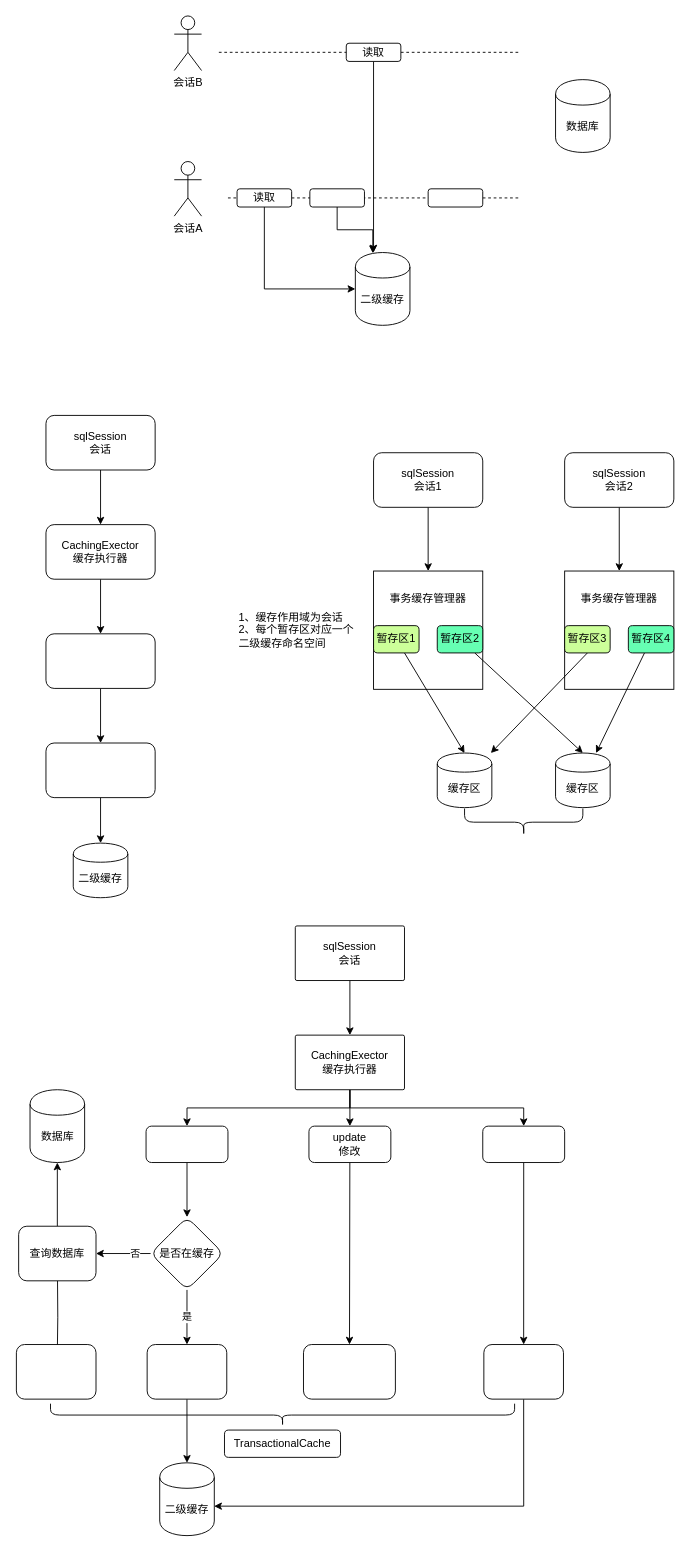
The diagram is 690 pixels wide and 1552 high, and some of its shapes have lost their labels. Here are the shapes that lost their labels. From the top down, the centre of each, then its label:
At [336,197]: "修改".
At [455,197]: "回滚".
At [100,660]: "Transactional CacheManager 缓存管理器".
At [100,770]: "Transactional Cache 暂存区".
At [523,822]: "二级缓存区".
At [186,1144]: "query 查询".
At [523,1144]: "commit 提交".
At [55,1371]: "setObject 放入暂存区".
At [186,1371]: "getObject 查询缓存".
At [349,1371]: "clearLocalCache 清理暂存区".
At [523,1371]: "commit 提交暂存区".
